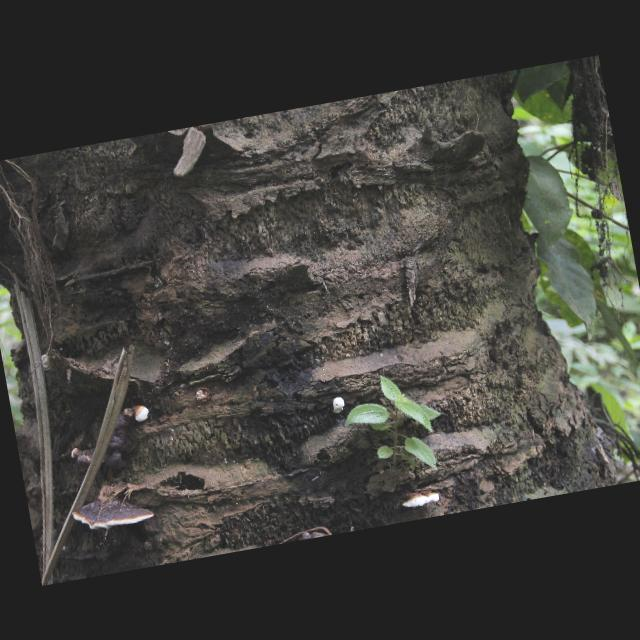ganoderma: (74, 408, 142, 475), (70, 490, 156, 537), (400, 488, 441, 511)
primordium: (132, 404, 151, 424), (330, 397, 347, 416), (40, 353, 52, 372), (71, 449, 82, 461)
